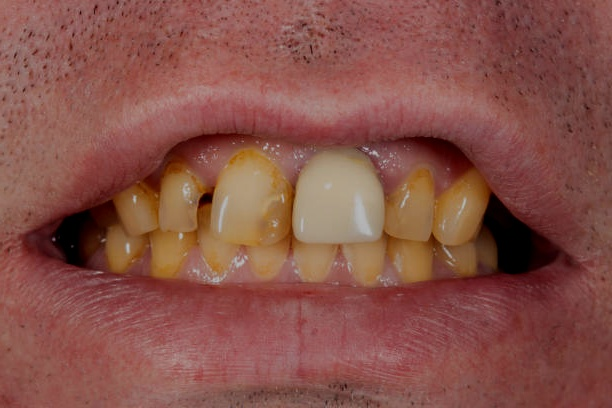Tooth Discoloration: (101, 142, 495, 292)
